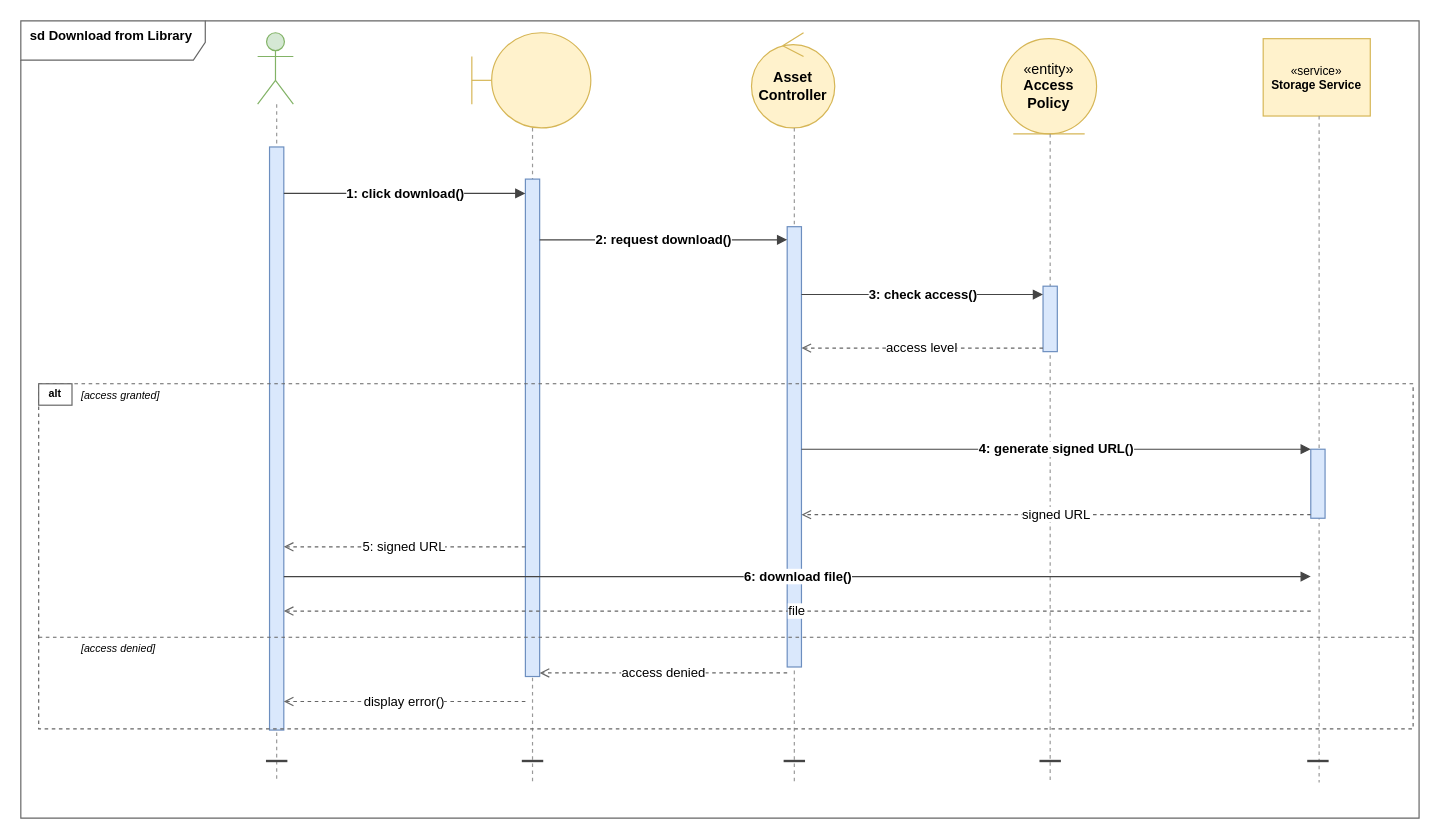
This 1440x839 diagram has some shape labels left out. Each missing label, with the centre of its shape:
":Member" belongs at point (274, 68).
"«boundary» Library Interface" belongs at point (531, 80).
